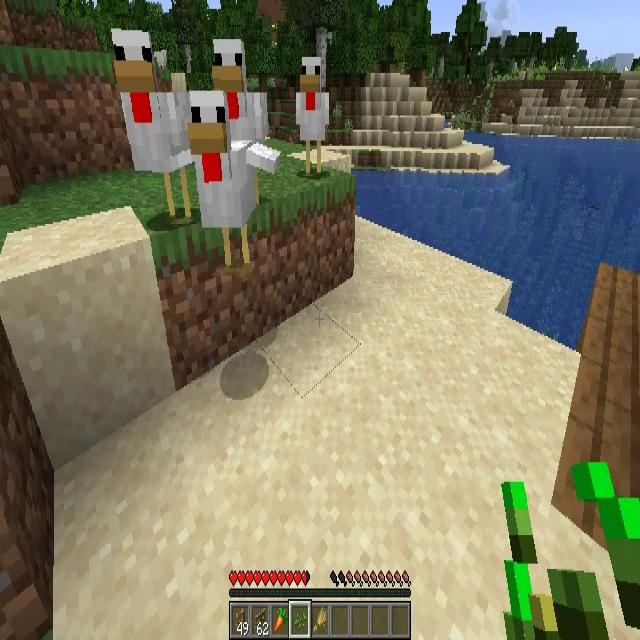duck: (110, 32, 194, 226), (187, 82, 276, 265), (207, 40, 270, 168), (295, 58, 330, 179)
